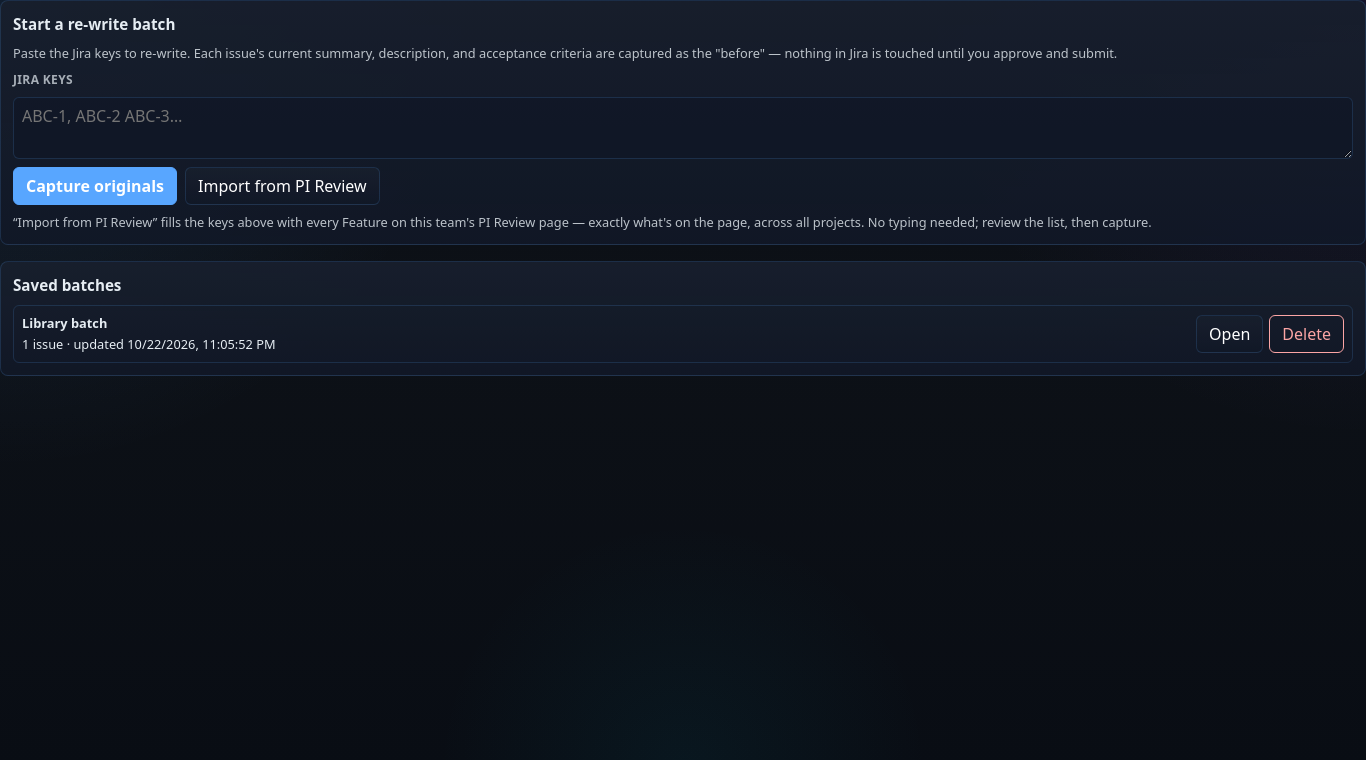
Test: BulkRewriteTab SharePoint library browsing › lists the documents a walk found, with where each one lives
This screenshot has width=1366, height=760.
Click the button "Open".
click(1230, 334)  # box [1196,315,1263,353]
(page scrolled)
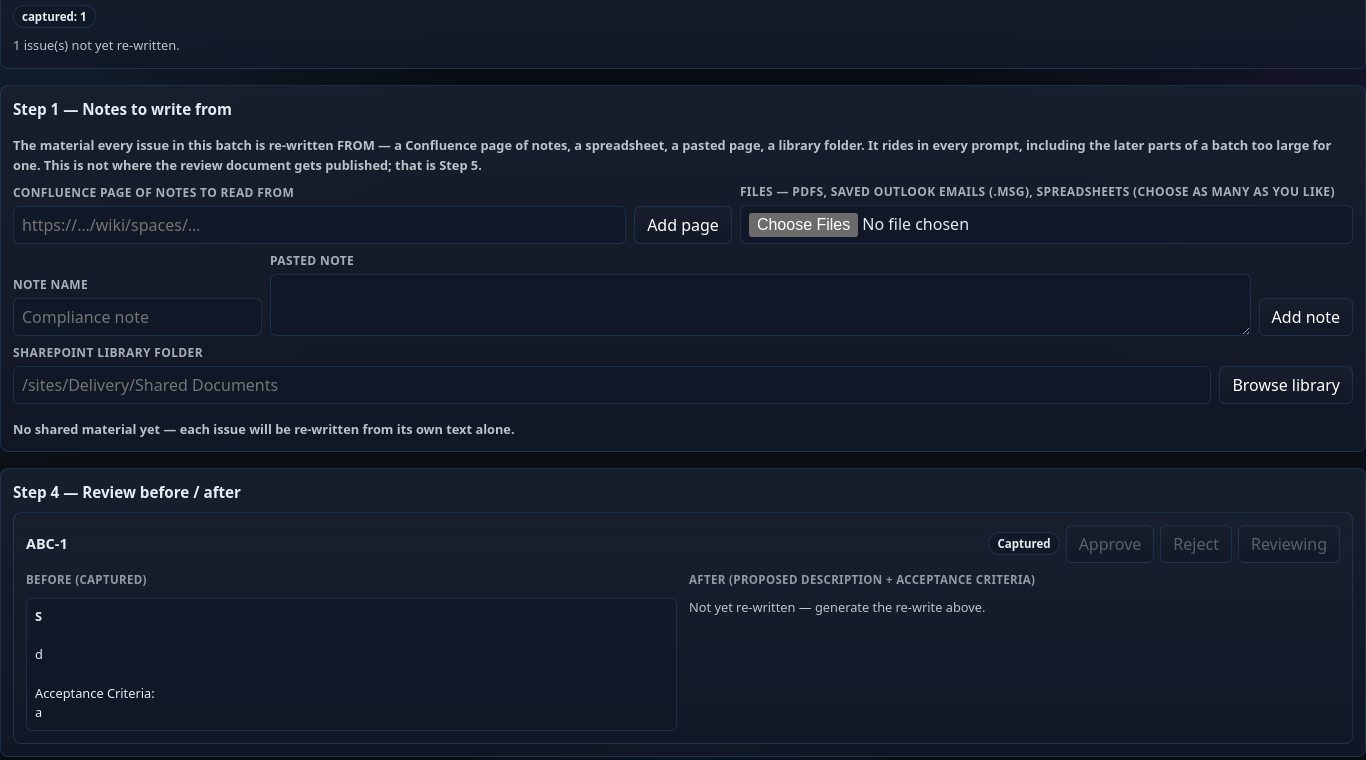
Type "/sites/D/Docs" into the field labelled "SharePoint library folder".
click(612, 385); type("/sites/D/Docs")  # box [13,366,1211,404]
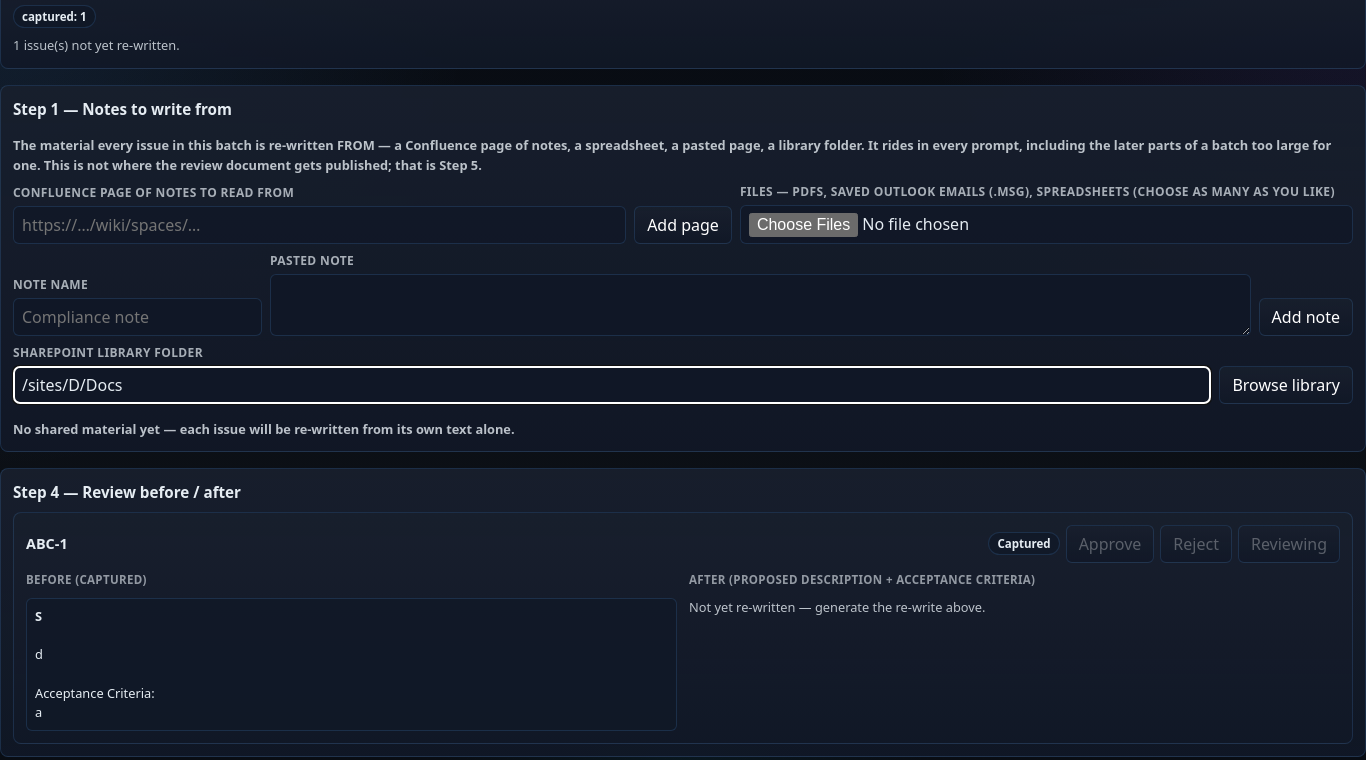
Click the button "Browse library".
click(1286, 385)  # box [1219,366,1353,404]
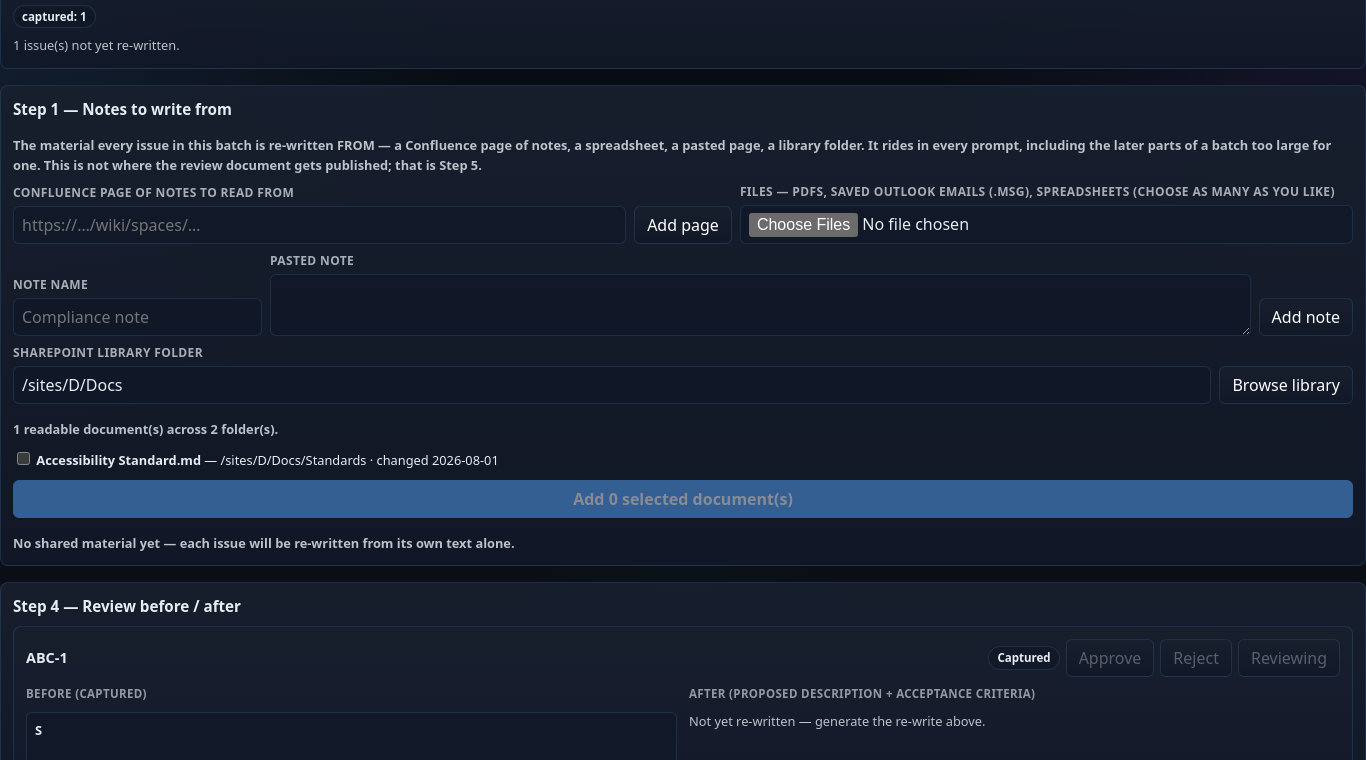
Result: the text "Accessibility Standard.md" is shown at [36,451,201,469]
Result: the text "/sites/D/Docs/Standards" is shown at [220,451,366,469]
